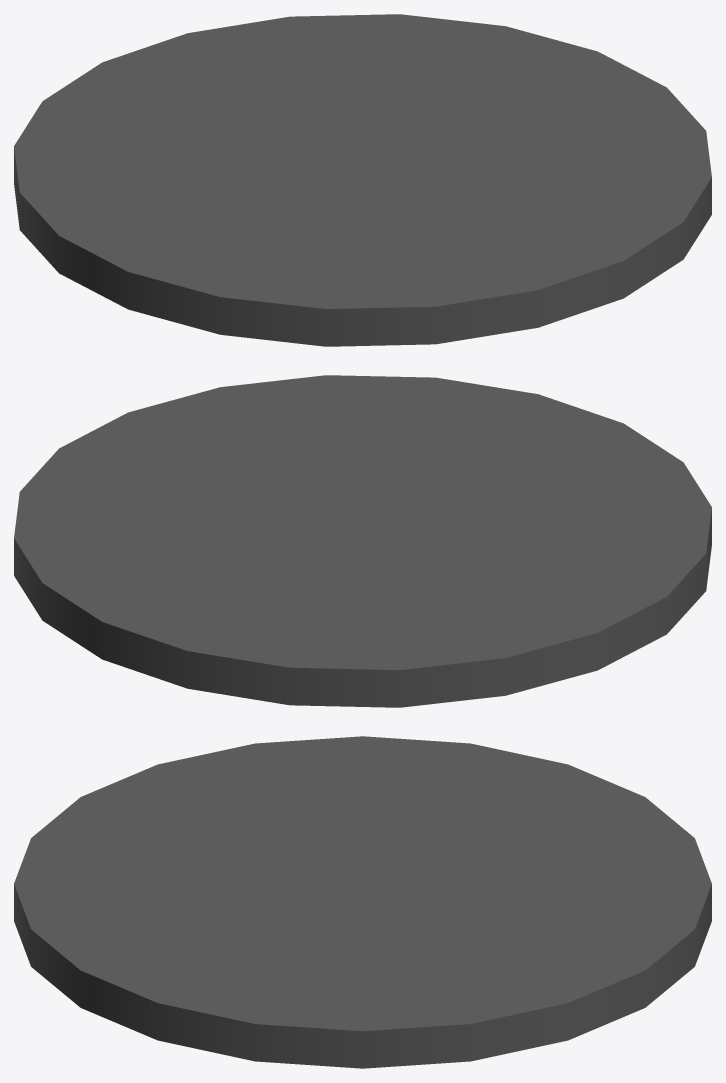
Rendered from Well.fbx.
3 views of the same model, one above another, from view 1: azimuth 30°, elevation 25°; view 2: azimuth 150°, elevation 25°; view 3: azimuth 270°, elevation 25° (orthographic).
Visible parts, largest first — view 1: pCylinder1; view 2: pCylinder1; view 3: pCylinder1.
Boxes of the visible parts, left/top/right/bottom form: pCylinder1: left=14, top=14, right=711, bottom=346; pCylinder1: left=14, top=375, right=711, bottom=707; pCylinder1: left=14, top=736, right=711, bottom=1068.
Size of the model in its own units: 1.2 by 0.0711 by 1.2.
